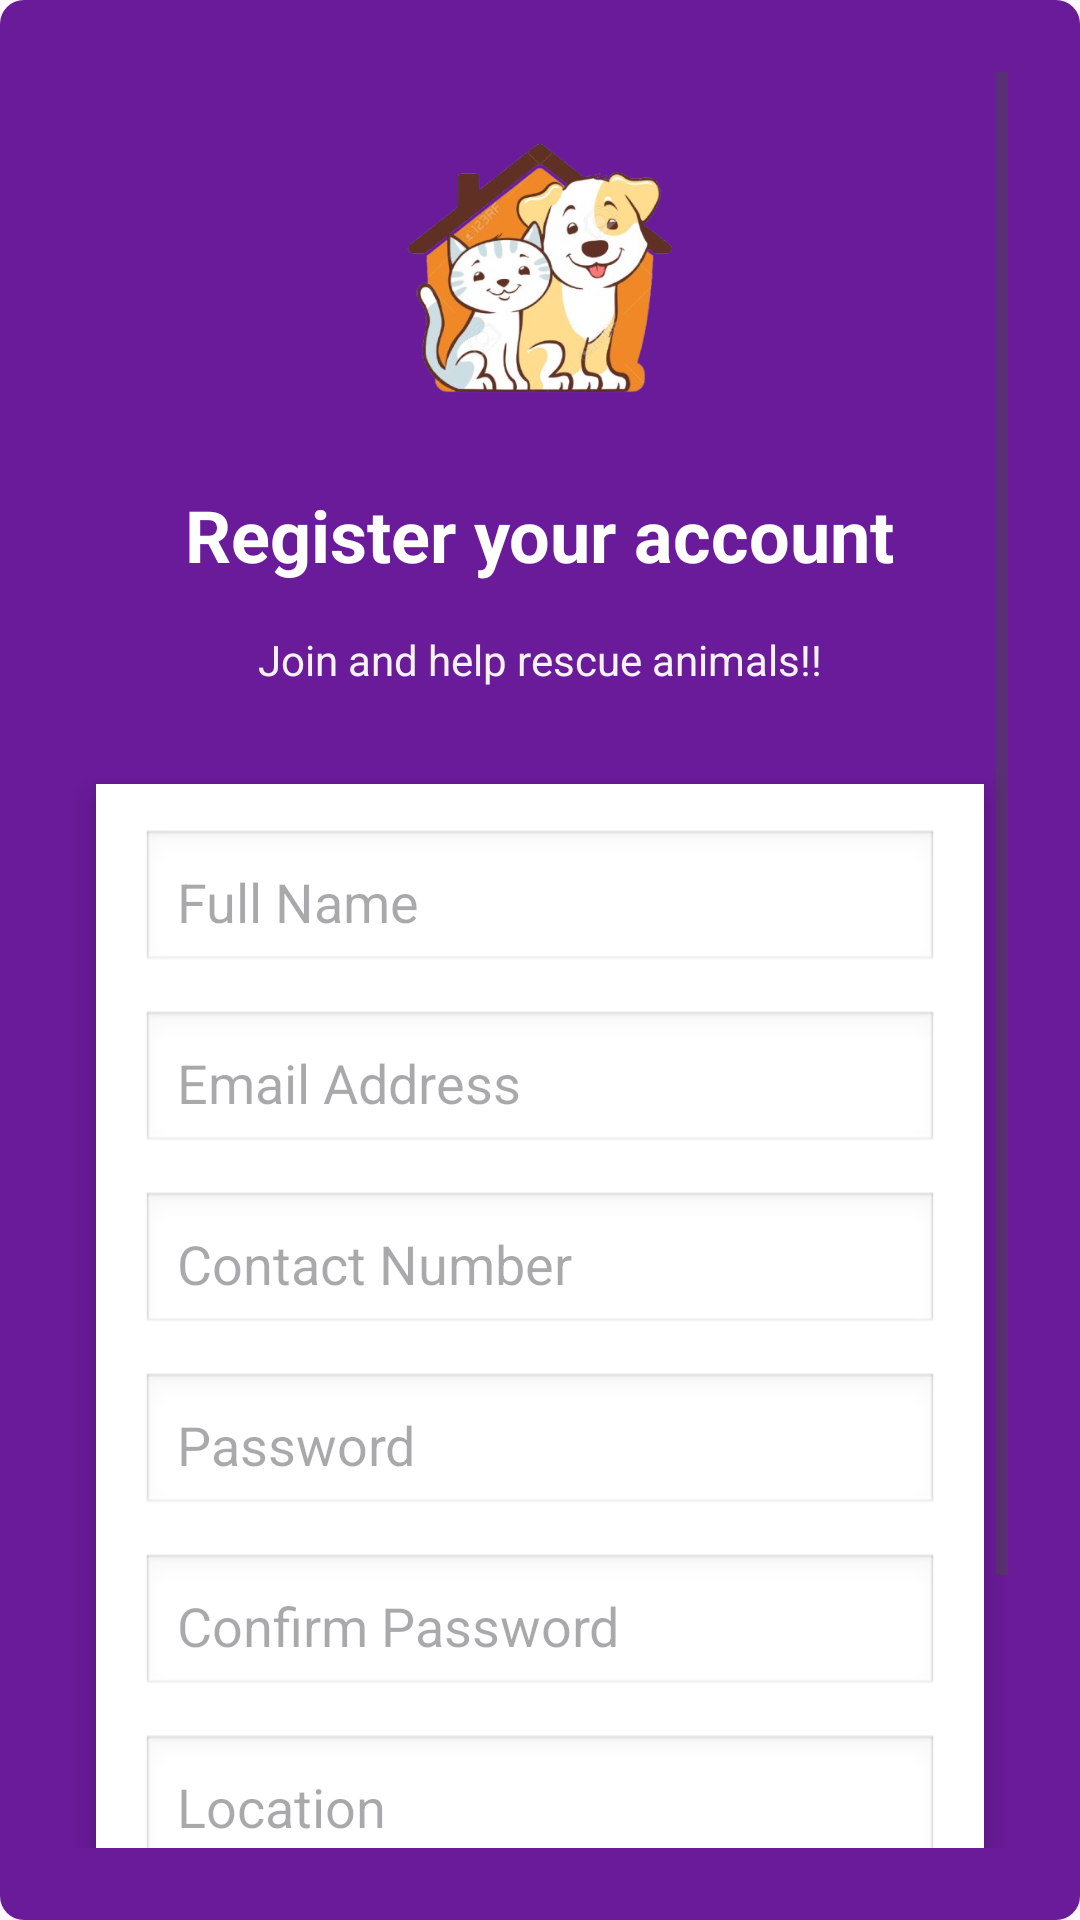

Screen size 1080×1920. Icon name, then its box in pixels as (x1=x1, y1=y1, x2=x2, y2=y2):
dog: (x1=408, y1=144, x2=672, y2=392)
